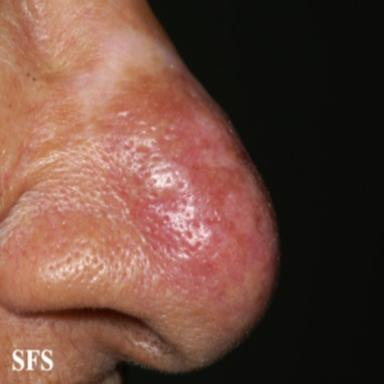Lupus-Erythematosus-Chronicus-Discoides: (85, 33, 279, 312)
